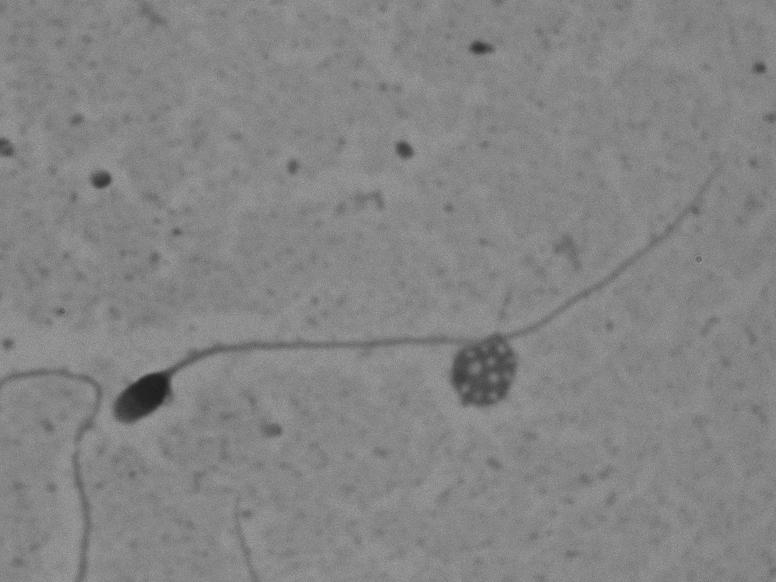Normal: (104, 145, 750, 445)
